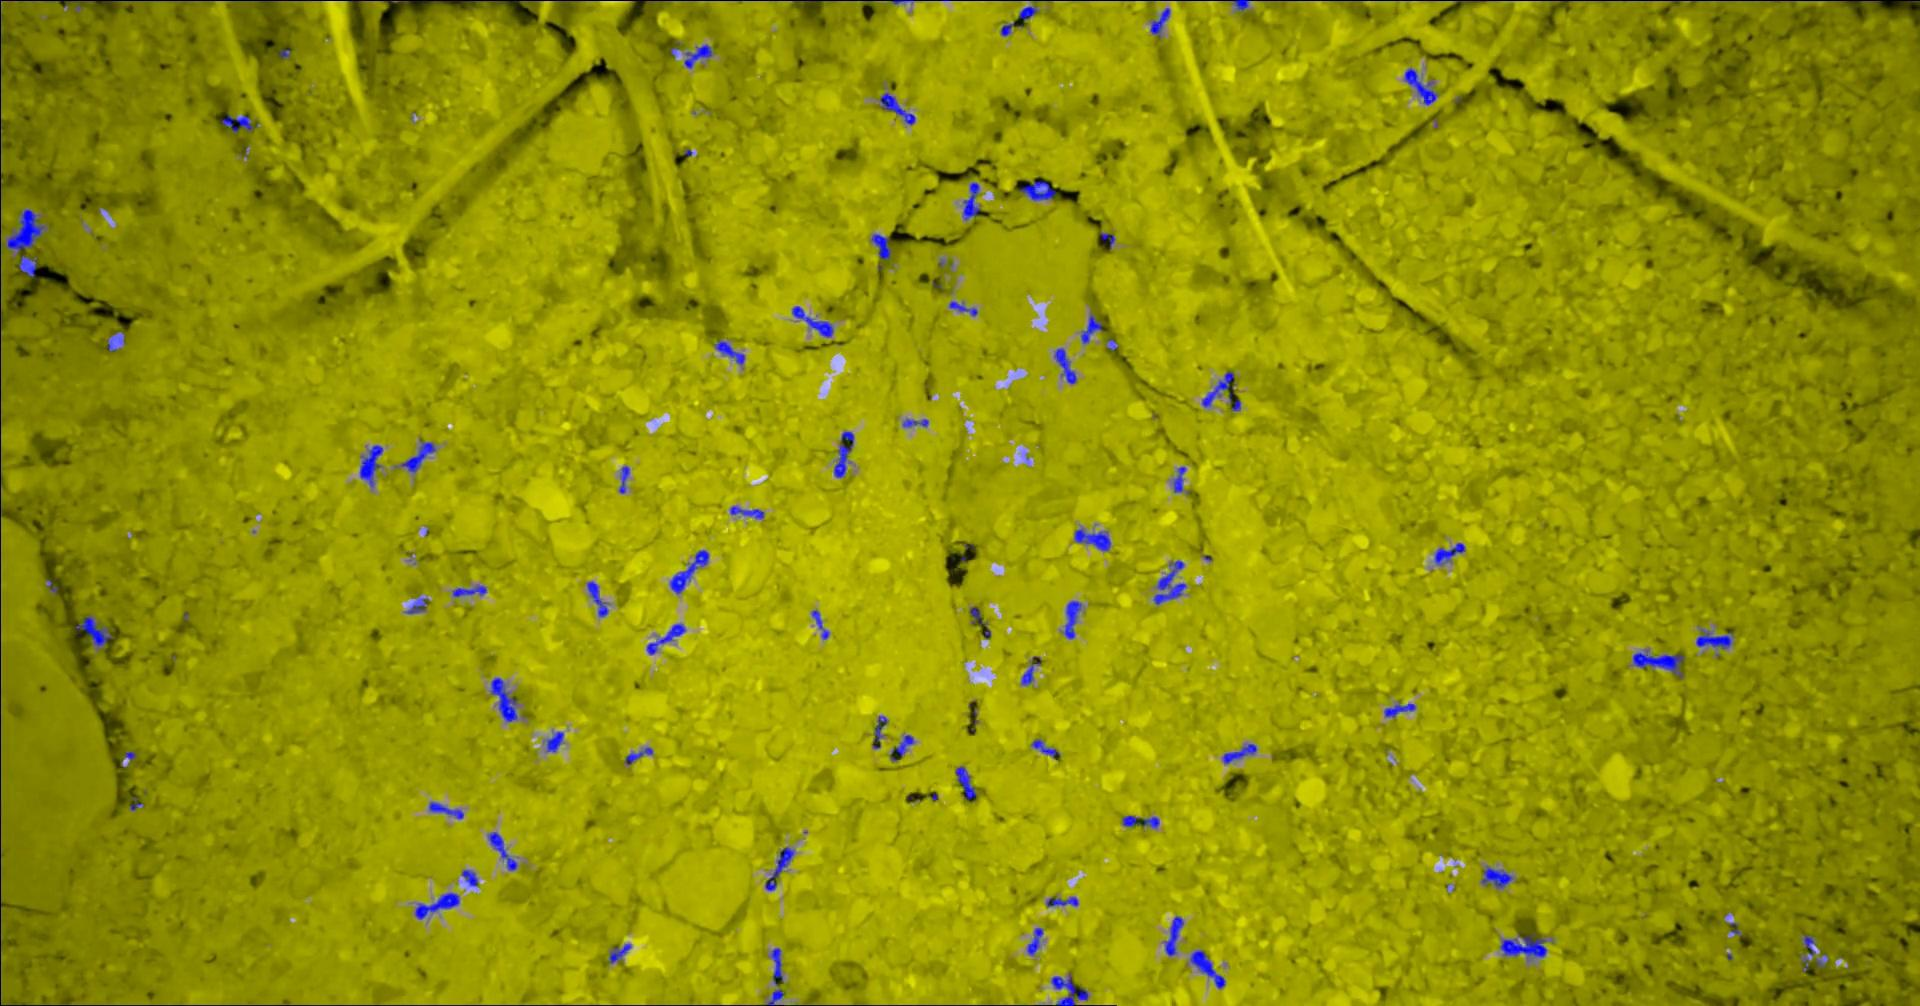ant: (6, 208, 44, 276), (669, 549, 709, 593), (1201, 371, 1239, 410), (1153, 560, 1185, 605), (1189, 950, 1224, 988), (791, 305, 833, 337), (1632, 652, 1683, 677), (764, 846, 792, 890), (646, 622, 684, 654), (490, 677, 517, 721), (414, 892, 458, 918), (1404, 69, 1437, 104), (879, 91, 914, 124), (400, 439, 436, 473), (74, 616, 112, 647), (488, 831, 517, 870), (1050, 974, 1087, 1005), (764, 948, 783, 1005), (1500, 934, 1545, 956), (359, 445, 382, 486), (833, 431, 853, 478), (1053, 348, 1076, 384), (714, 339, 744, 365), (1164, 915, 1183, 955), (1074, 528, 1110, 550), (585, 580, 607, 616), (1018, 180, 1055, 199), (1695, 629, 1732, 648), (1222, 743, 1256, 763), (955, 766, 975, 800), (1079, 314, 1102, 343), (1434, 542, 1464, 564), (1481, 866, 1512, 887), (684, 44, 711, 69), (1064, 600, 1081, 638), (889, 734, 913, 760), (963, 182, 979, 218), (221, 114, 253, 133), (428, 801, 463, 818), (1150, 8, 1170, 37), (1021, 655, 1040, 683), (1031, 739, 1059, 758), (871, 232, 890, 259), (872, 715, 888, 748), (811, 608, 828, 638), (623, 747, 651, 763), (44, 0, 95, 9), (729, 506, 764, 518), (1383, 702, 1415, 716), (1026, 927, 1043, 954), (608, 942, 630, 963), (1121, 815, 1159, 827), (949, 301, 977, 315), (1018, 0, 1036, 22), (105, 332, 124, 351), (452, 586, 486, 596), (404, 598, 427, 614), (546, 730, 563, 751), (1172, 466, 1185, 492), (969, 606, 985, 625), (1046, 895, 1077, 906), (1001, 22, 1022, 36), (461, 869, 477, 887), (618, 466, 629, 493), (1803, 935, 1815, 955), (902, 418, 928, 426), (1100, 232, 1114, 246), (1232, 0, 1250, 10)
